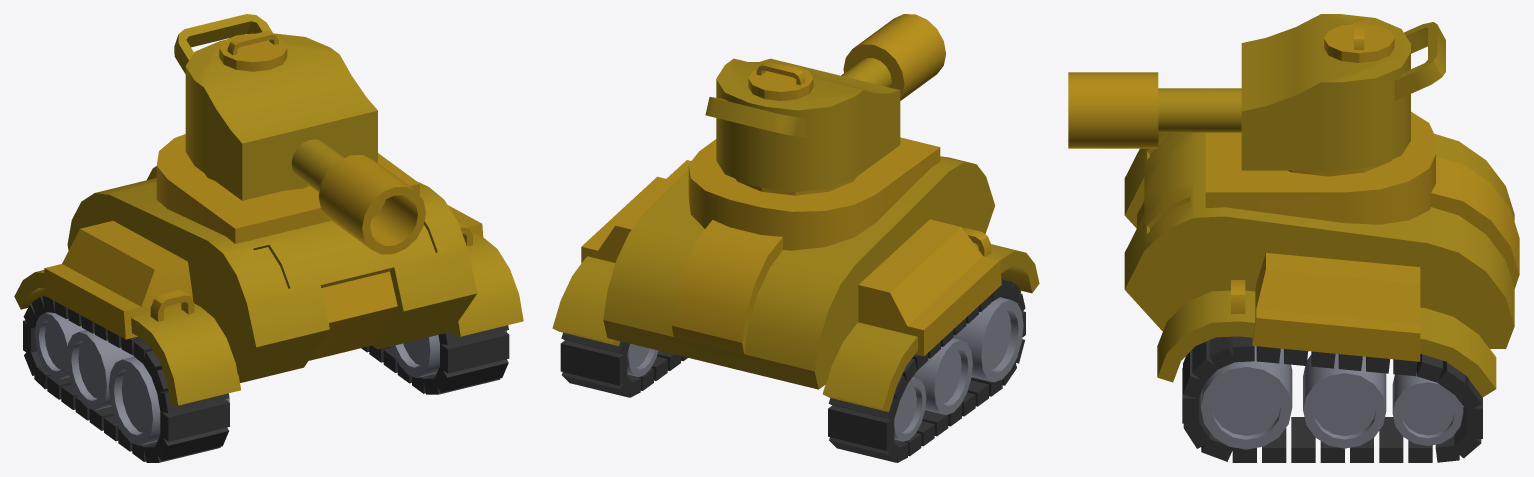
Rendered from tank.glb.
3 views of the same model, side by side, from view 1: azimuth 30°, elevation 25°; view 2: azimuth 150°, elevation 25°; view 3: azimuth 270°, elevation 25° (orthographic). The views are drawn at different scales.
Parts seen in each view (by area): view 1: Tank; view 2: Tank; view 3: Tank.
Part boxes in pixels (box(x1,y1,x2,y2)): Tank: box(14, 14, 523, 462); Tank: box(552, 14, 1039, 462); Tank: box(1068, 14, 1519, 462).
Bounding box in the file's own units: 2.37 × 2.14 × 2.5.
